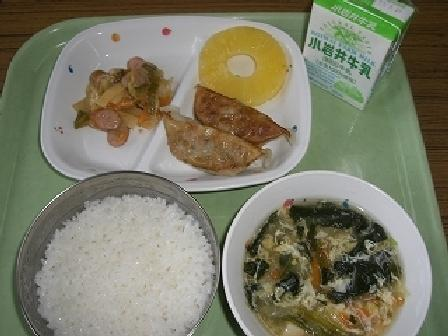Milk: (295, 0, 425, 95)
Rice: (10, 170, 216, 335)
Soups: (215, 177, 431, 335)
cooked food meat with vegetables: (74, 49, 170, 136)
pineapple: (200, 25, 285, 98)
tushpara-fried: (162, 83, 290, 175)
